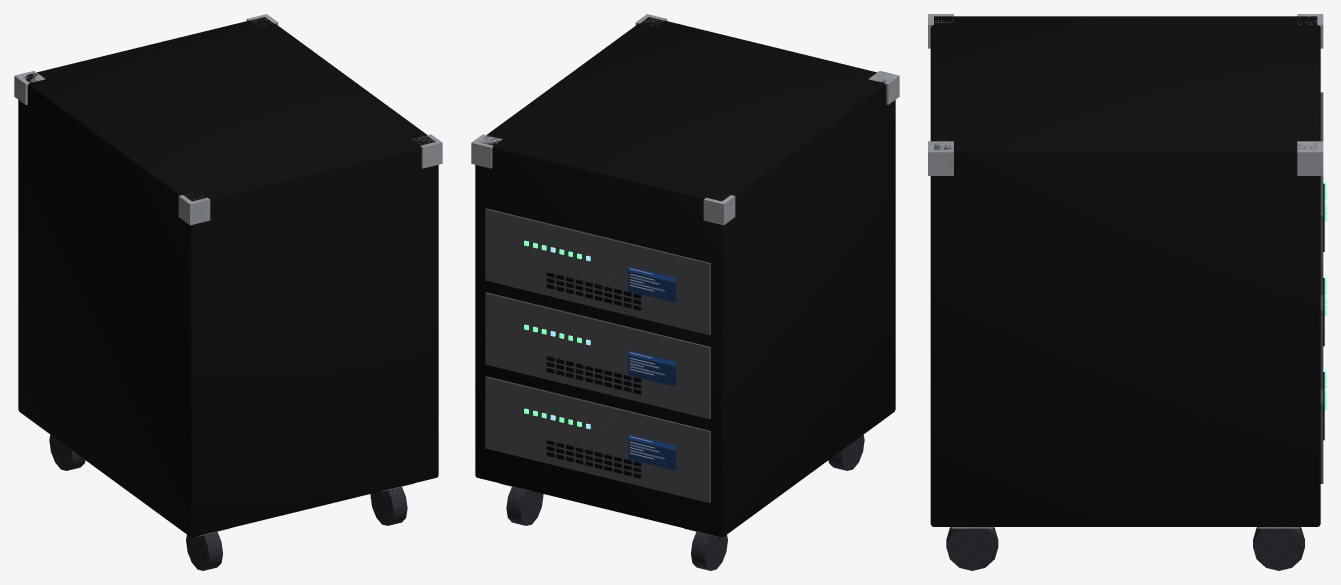
Rendered from amp_rack.gltf.
3 views of the same model, side by side, from view 1: azimuth 30°, elevation 25°; view 2: azimuth 150°, elevation 25°; view 3: azimuth 270°, elevation 25° (orthographic). The views are drawn at different scales.
Visible parts, largest first — view 1: amp_rack; view 2: amp_rack; view 3: amp_rack.
Boxes of the visible parts, <box> form: amp_rack: <box>14,14,442,570</box>; amp_rack: <box>471,14,899,570</box>; amp_rack: <box>928,14,1326,570</box>.
Size of the model in its own units: 0.63 by 0.92 by 0.767.
Materials: 8 (6 with a texture image).
